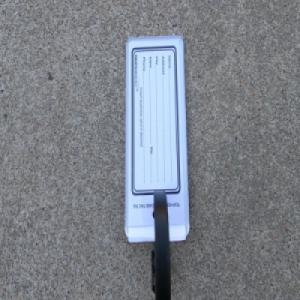LuggageTag: (123, 33, 190, 300)
